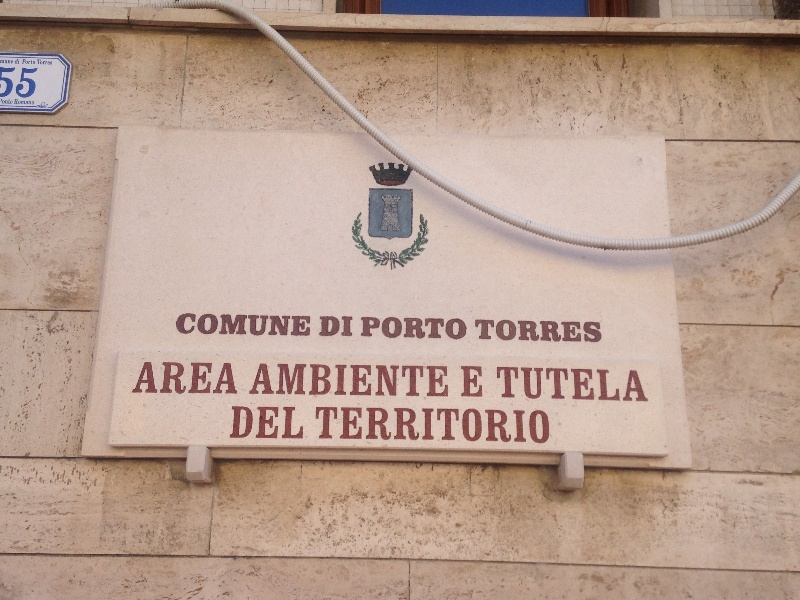text: (321, 405, 336, 446), (337, 405, 352, 446), (353, 405, 368, 446), (369, 405, 384, 446), (385, 405, 400, 446), (401, 405, 416, 446), (417, 405, 432, 446), (433, 405, 448, 446), (449, 405, 464, 446), (465, 405, 480, 446), (481, 405, 496, 446), (497, 405, 512, 446), (513, 405, 528, 446), (529, 405, 544, 446), (273, 362, 288, 401), (289, 362, 304, 401), (305, 362, 320, 401), (321, 362, 336, 401), (337, 362, 352, 401), (353, 362, 368, 401), (369, 362, 384, 401), (385, 362, 400, 401), (401, 362, 416, 401), (417, 362, 432, 401), (433, 362, 448, 401), (497, 365, 512, 404), (513, 365, 528, 404), (529, 365, 544, 404), (545, 365, 560, 404), (561, 365, 576, 404), (577, 365, 592, 404), (593, 365, 608, 404), (609, 365, 624, 404), (625, 365, 640, 404), (465, 364, 480, 401), (241, 405, 256, 441), (257, 405, 272, 441), (273, 405, 288, 441), (289, 405, 304, 441), (1, 66, 16, 99), (17, 66, 32, 99), (145, 363, 160, 396), (161, 363, 176, 396), (177, 363, 192, 396), (193, 363, 208, 396), (209, 363, 224, 396), (225, 363, 240, 396), (260, 362, 272, 401), (321, 314, 336, 340), (337, 314, 352, 340), (369, 315, 384, 341), (385, 315, 400, 341), (401, 315, 416, 341), (417, 315, 432, 341), (433, 315, 448, 341), (449, 315, 464, 341), (481, 318, 496, 344), (497, 318, 512, 344), (513, 318, 528, 344), (529, 318, 544, 344), (545, 318, 560, 344), (561, 318, 576, 344), (577, 318, 592, 344), (230, 405, 240, 441), (641, 365, 650, 404), (177, 314, 192, 337), (193, 314, 208, 337), (209, 314, 224, 337), (225, 314, 240, 337), (241, 314, 256, 337), (257, 314, 272, 337), (273, 314, 288, 337), (289, 314, 304, 337), (545, 405, 553, 446), (593, 318, 604, 344), (314, 405, 320, 446), (360, 315, 368, 341), (33, 66, 39, 99), (474, 318, 480, 344), (460, 364, 464, 401), (481, 364, 485, 401), (305, 314, 311, 337), (465, 315, 470, 341), (17, 99, 32, 106), (1, 99, 16, 105), (449, 362, 451, 401), (37, 59, 48, 65), (1, 60, 16, 64), (23, 59, 32, 65), (318, 314, 320, 340), (353, 314, 355, 340), (33, 59, 37, 65), (49, 59, 53, 65), (17, 59, 20, 65), (33, 99, 35, 106), (15, 99, 16, 106), (15, 59, 16, 65)
